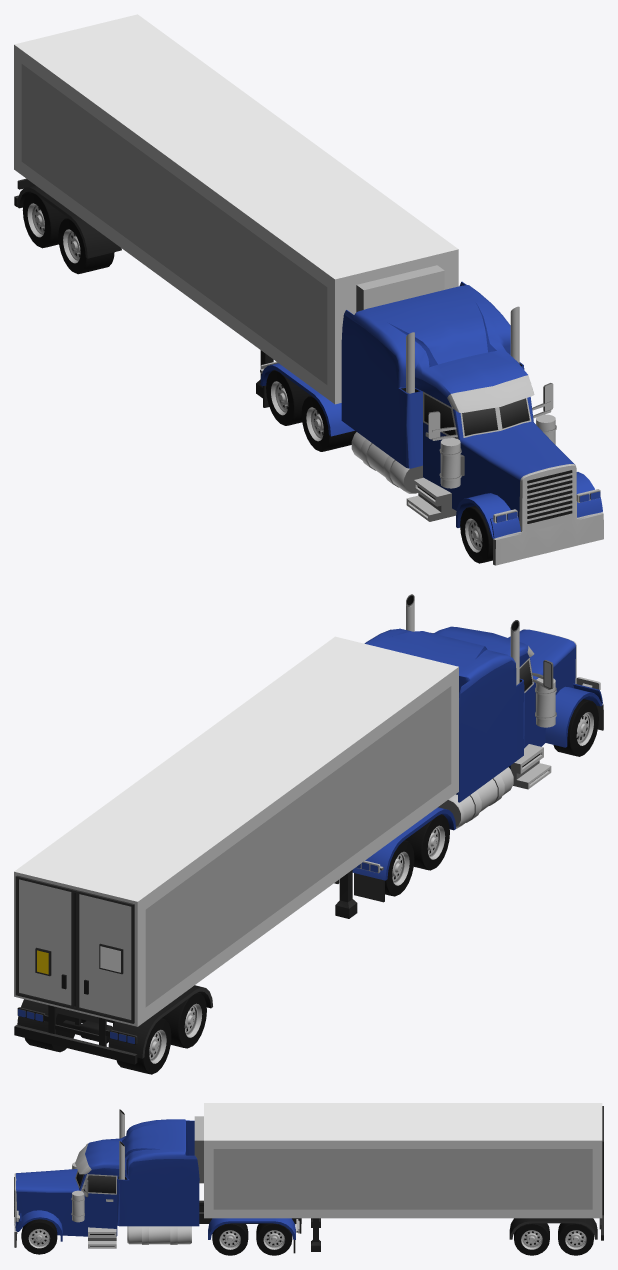
The model's file is DakaChe00.fbx.
3 renders of one model, top to bottom at view 1: azimuth 30°, elevation 25°; view 2: azimuth 150°, elevation 25°; view 3: azimuth 270°, elevation 25°, orthographic. The views are drawn at different scales.
Parts seen in each view (by area): view 1: DakaChe00; view 2: DakaChe00; view 3: DakaChe00.
Part boxes in pixels (box(x1,y1,x2,y2)): DakaChe00: box(14, 14, 603, 565); DakaChe00: box(14, 594, 603, 1074); DakaChe00: box(14, 1103, 603, 1255).
Bounding box in the file's own units: 361 × 515 × 2373.
